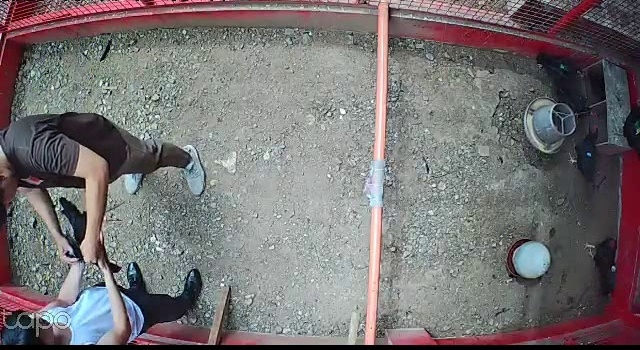Chicken: (546, 76, 597, 118), (566, 124, 598, 190), (537, 53, 591, 83)
Drinker: (503, 239, 552, 280)
Feeder: (523, 95, 578, 157)
Rooster: (582, 235, 625, 305)
Saddle_Color_Blue: (586, 153, 592, 157)
